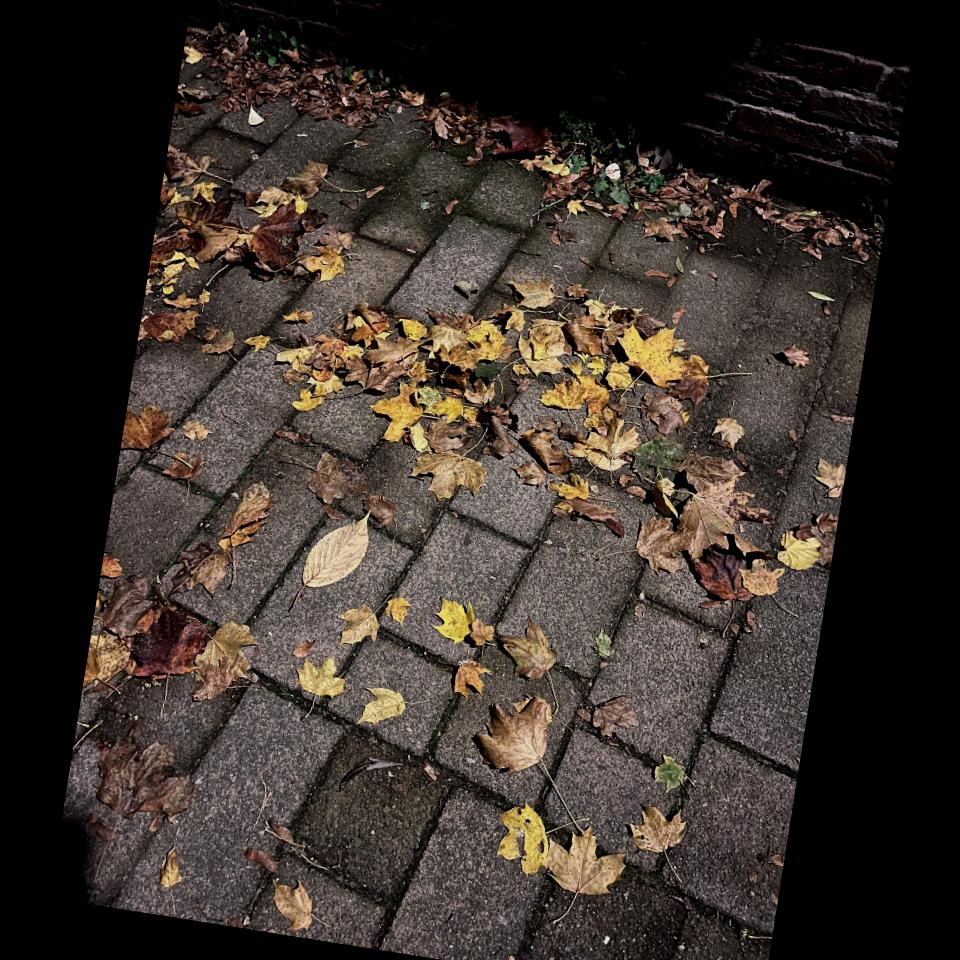weed: (534, 110, 668, 208), (251, 25, 297, 66), (362, 68, 402, 86), (340, 58, 361, 81)
